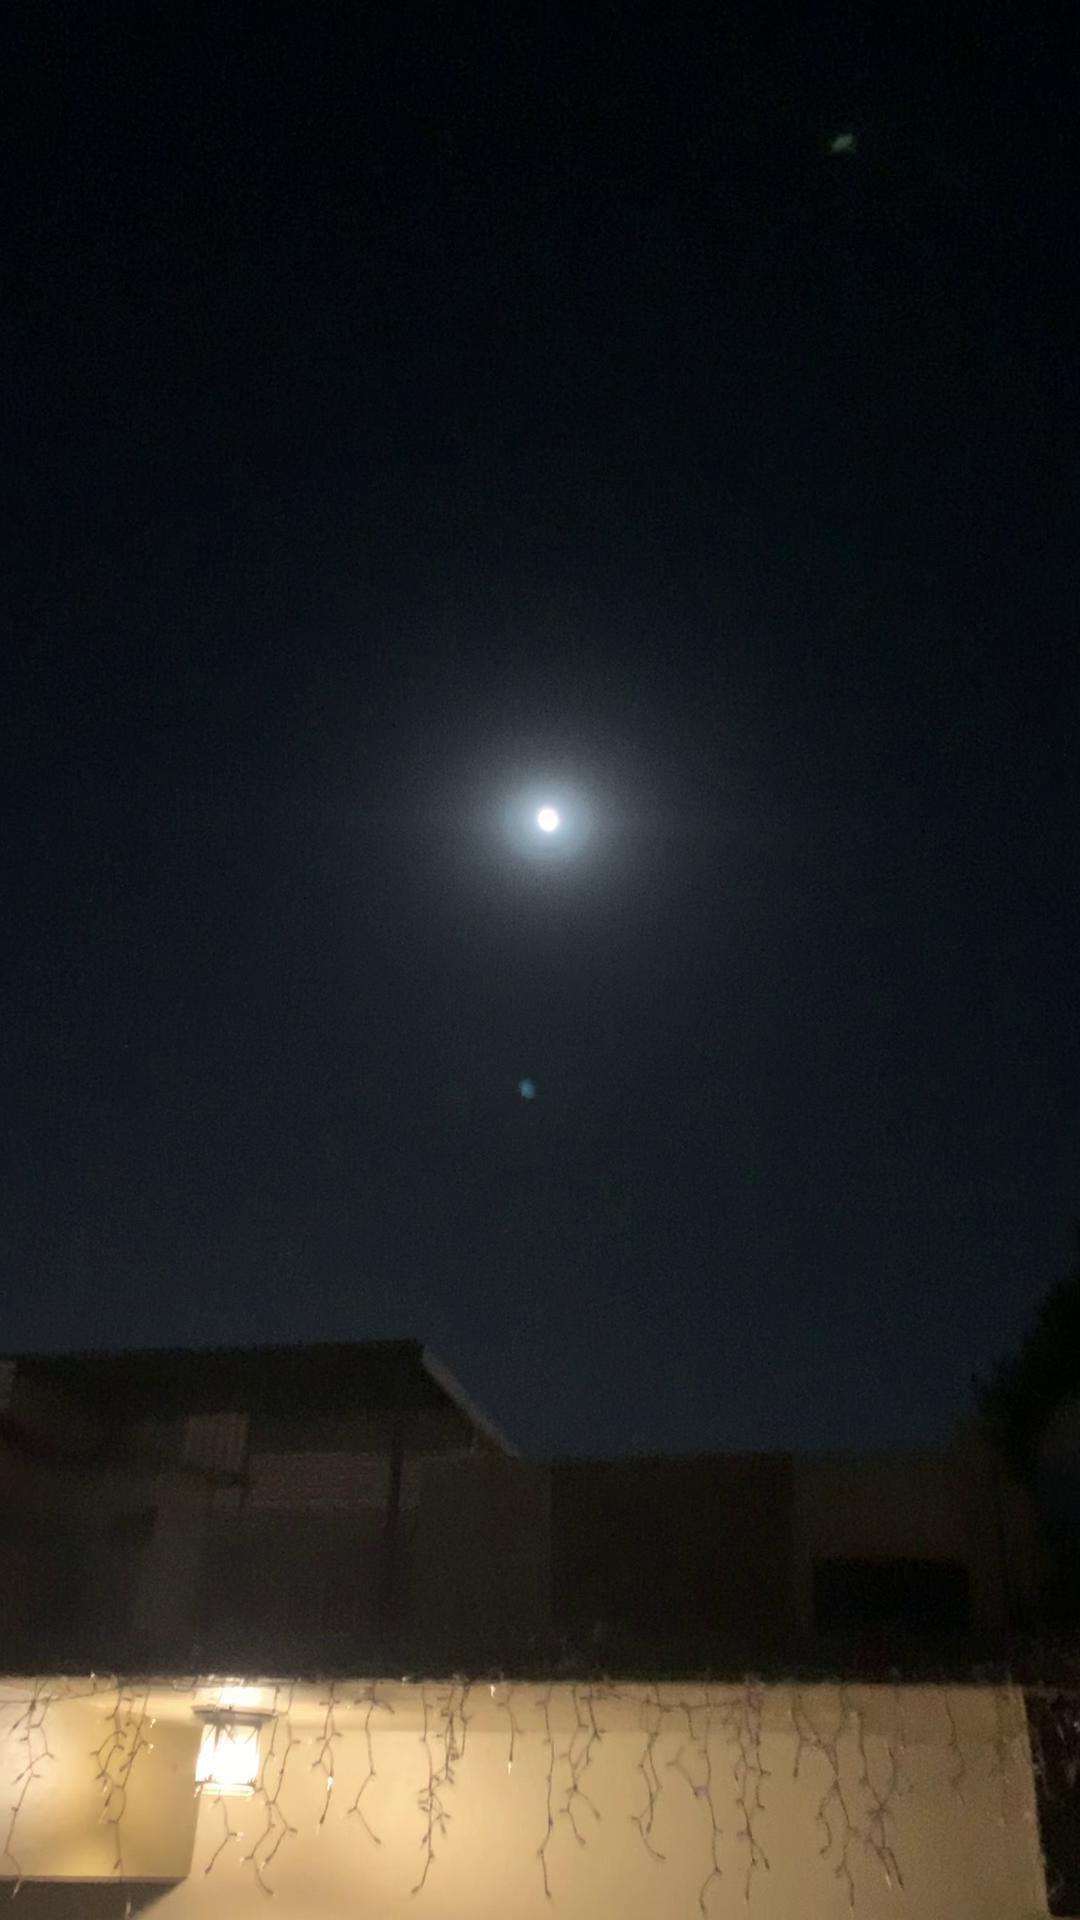moon: (509, 779, 596, 876)
